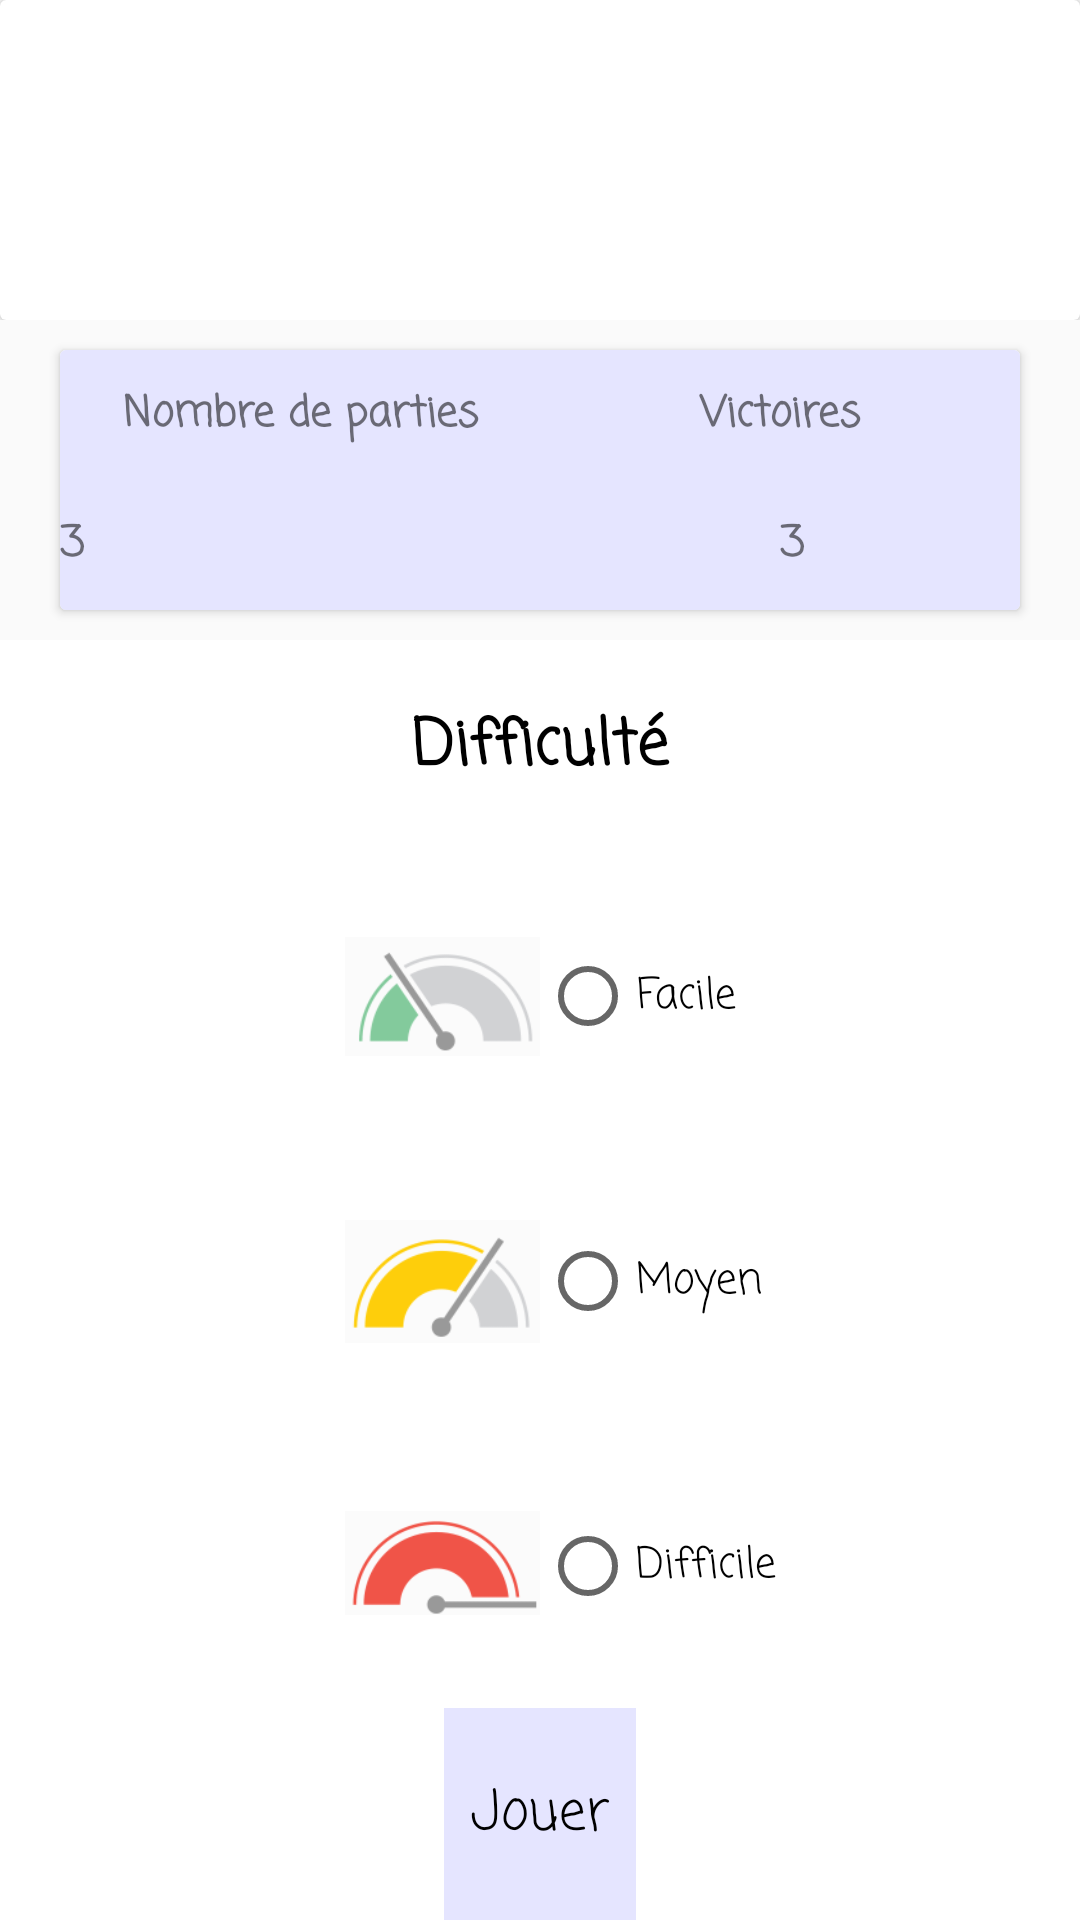

Point at icon controls on the screen. Image size 1080w x 1920h, points as (x=x, y=y).
easy: (x=445, y=1002)
hard: (x=444, y=1567)
medium: (x=441, y=1287)
